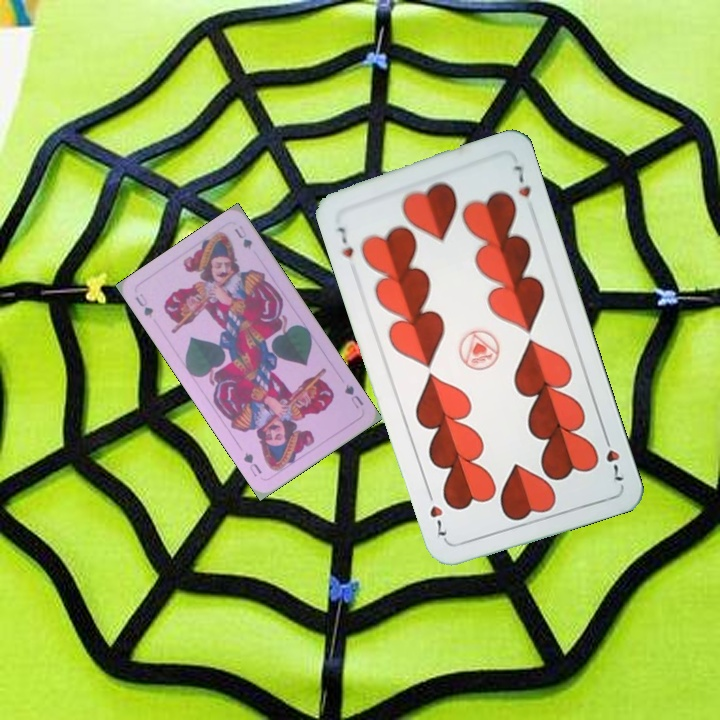GU: (340, 380, 366, 411), (131, 289, 156, 321)
H7: (599, 429, 627, 484), (331, 223, 356, 261)
